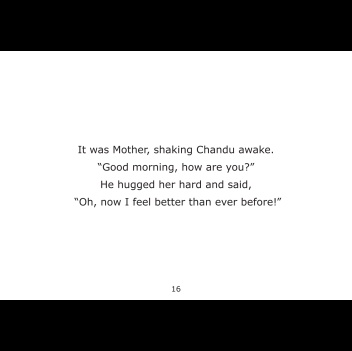latin: (73, 195, 283, 210), (75, 140, 275, 155), (99, 177, 251, 192), (96, 160, 255, 174)
